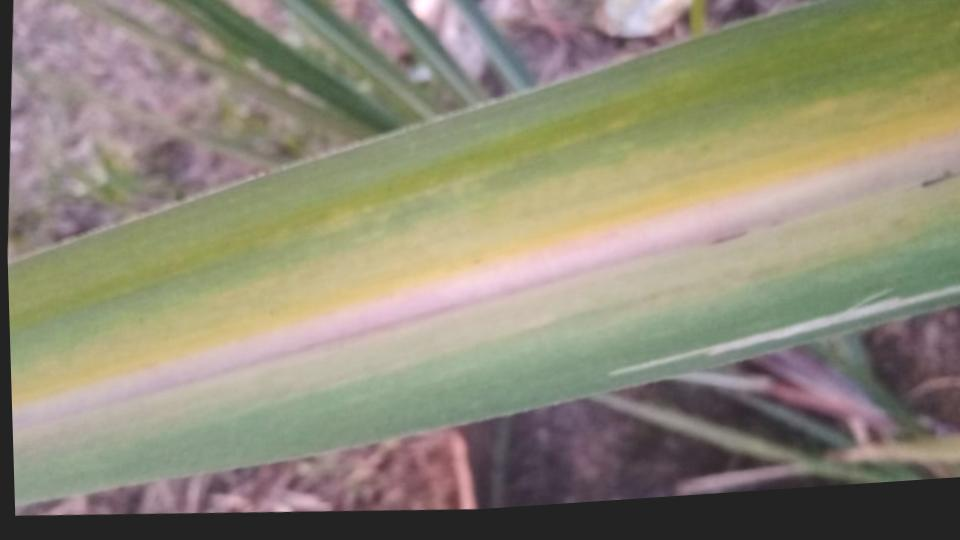Rust: (707, 224, 755, 250), (919, 169, 960, 192)
Yellow: (11, 65, 960, 407), (9, 0, 960, 330), (13, 167, 960, 464)
